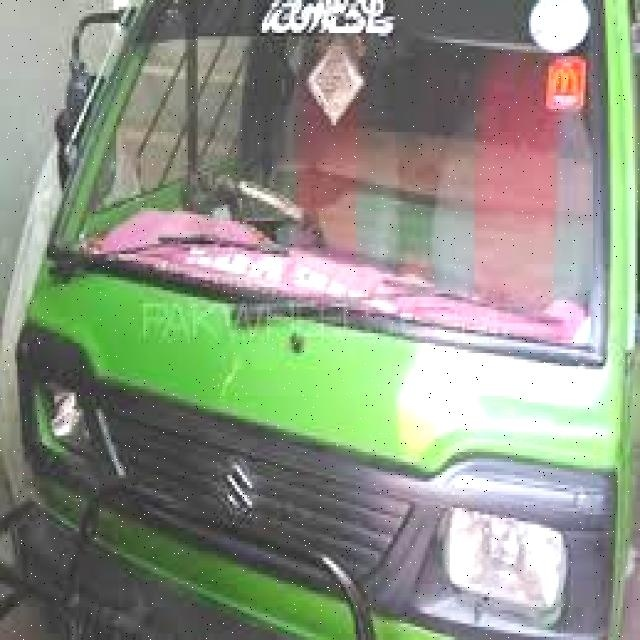Van: (5, 0, 640, 640)
